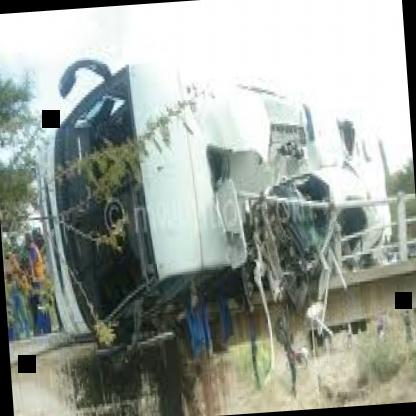accident: (33, 25, 414, 356), (218, 131, 398, 308)
